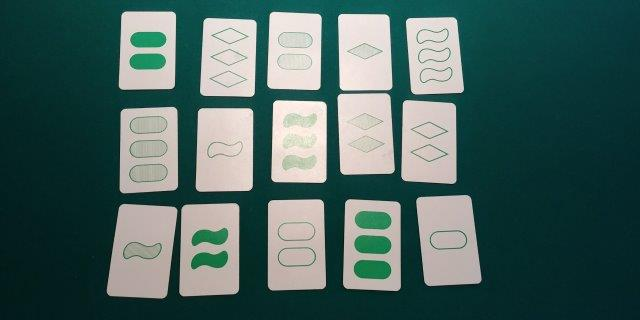1EP: (425, 201, 470, 280)
1EW: (199, 110, 249, 188)
1HD: (341, 15, 386, 86)
1HW: (120, 208, 165, 294)
2ED: (405, 104, 451, 179)
2EP: (271, 203, 321, 285)
2FP: (122, 14, 172, 86)
2FW: (185, 206, 235, 291)
2HD: (342, 96, 389, 170)
2HP: (271, 15, 316, 87)
3ED: (205, 21, 252, 93)
3EW: (411, 20, 455, 90)
3FP: (348, 202, 394, 288)
3FW: (274, 102, 322, 179)
3HP: (123, 109, 173, 188)
